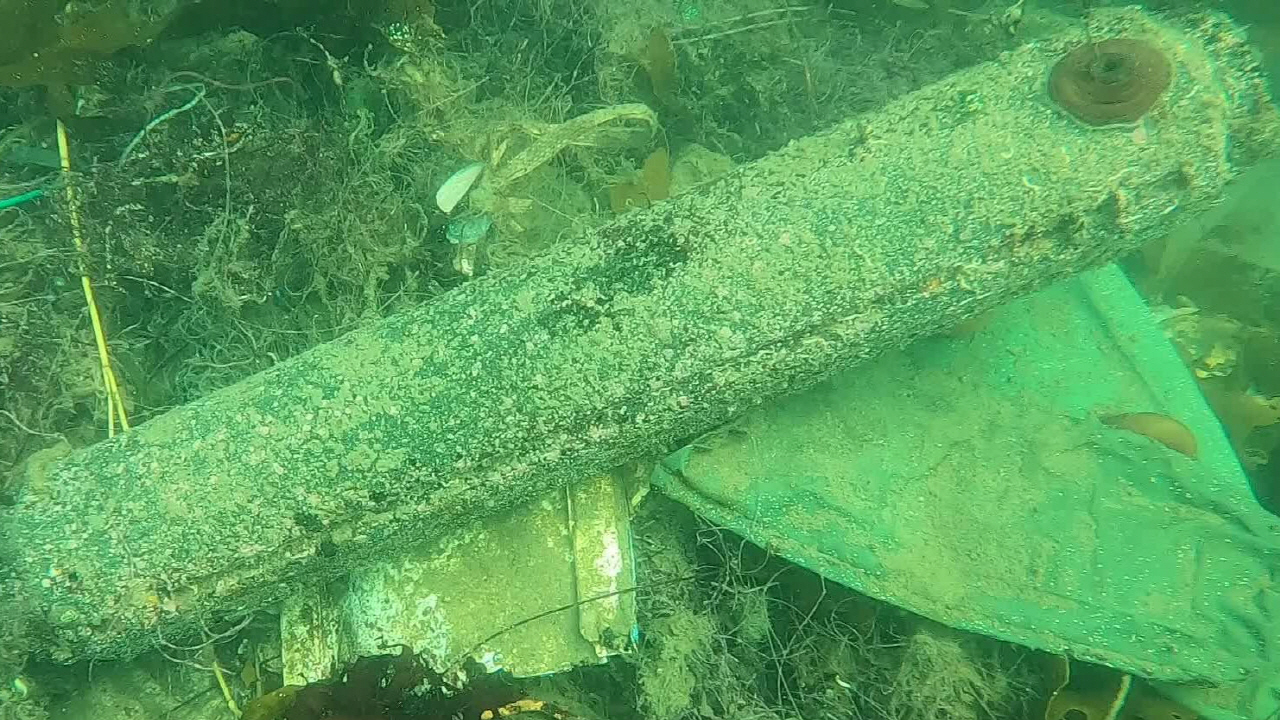eel fish trap: (0, 6, 1279, 696)
